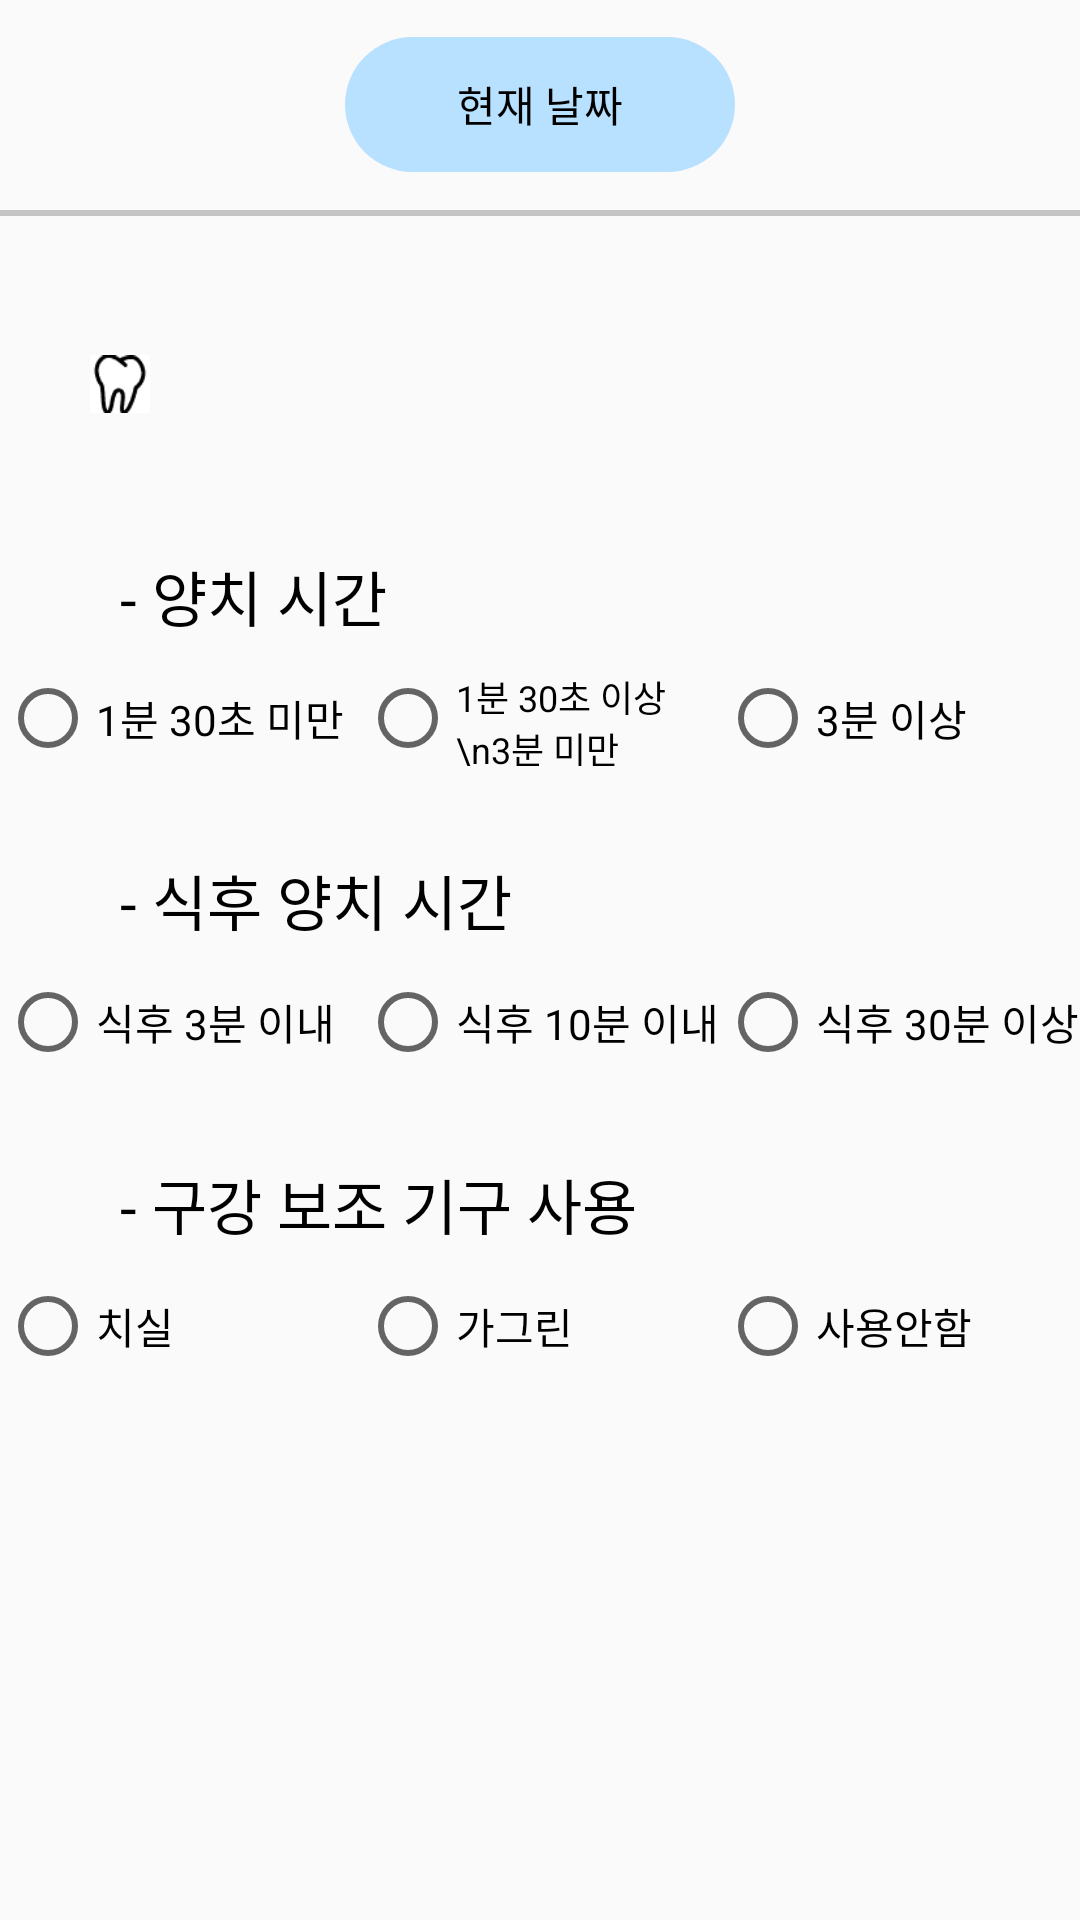

Screen size 1080px x 1920px. Icon name, then its box in pixels as detection(x1, y1, x2, y2):
tooth: detection(94, 355, 146, 413)
